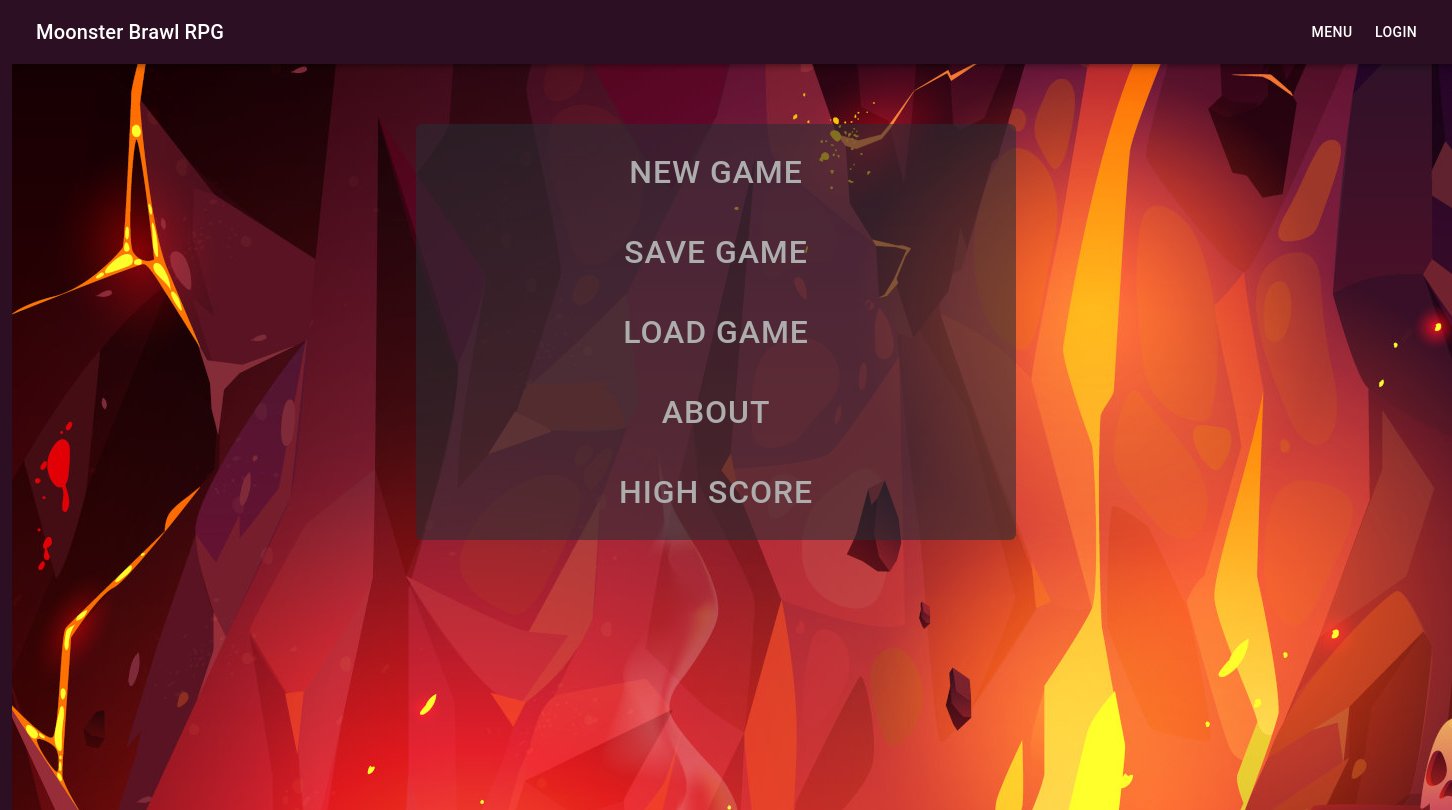
App › keeps disabled shop buttons filled and visibly grey
The image size is (1452, 810).
Click the button "New Game" at [716, 172], box x1=621 y1=138 x2=811 y2=206
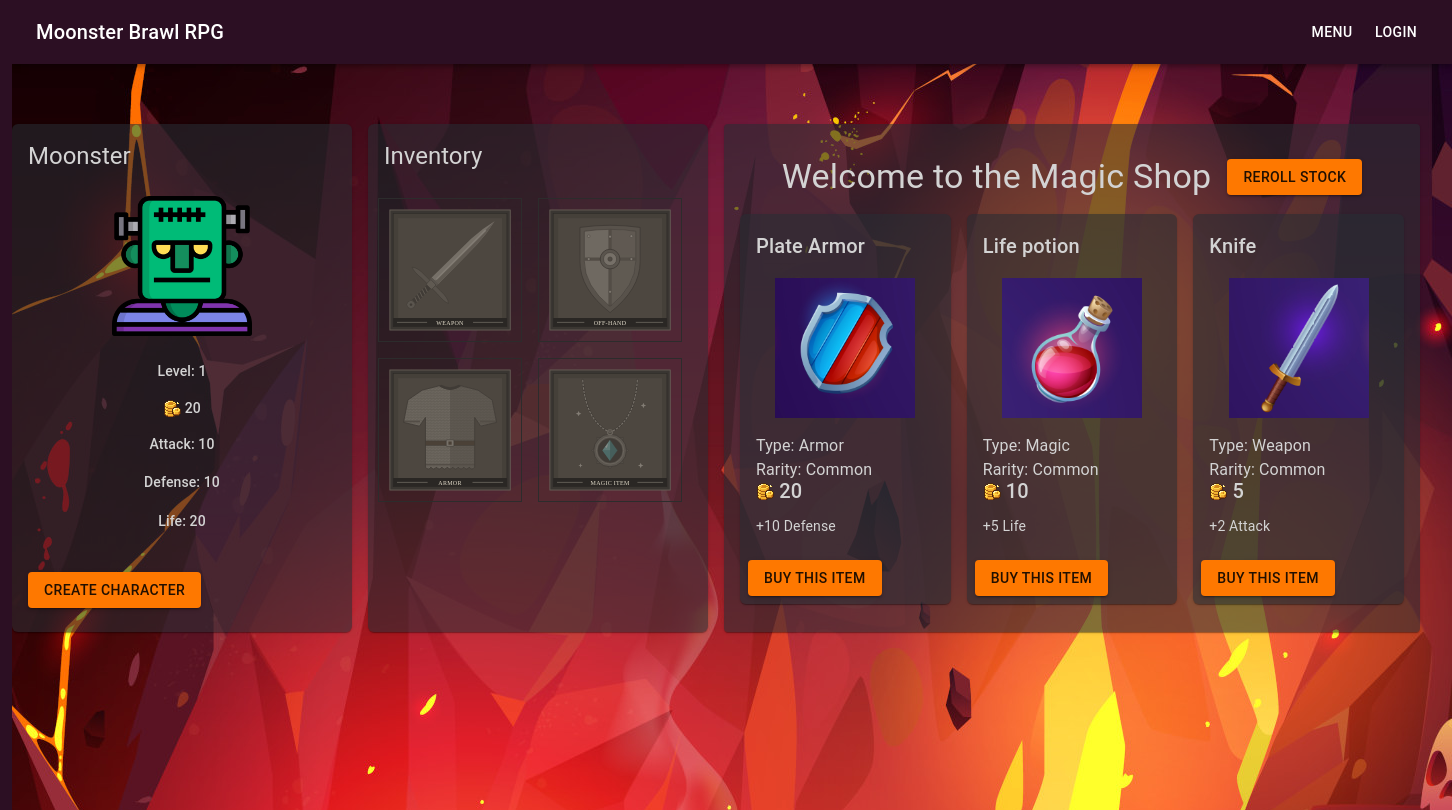
expect the heading "Welcome to the Magic Shop" is shown: met, box x1=782 y1=156 x2=1212 y2=198
Click the button "Reroll stock" at [1295, 177], box x1=1227 y1=159 x2=1362 y2=195
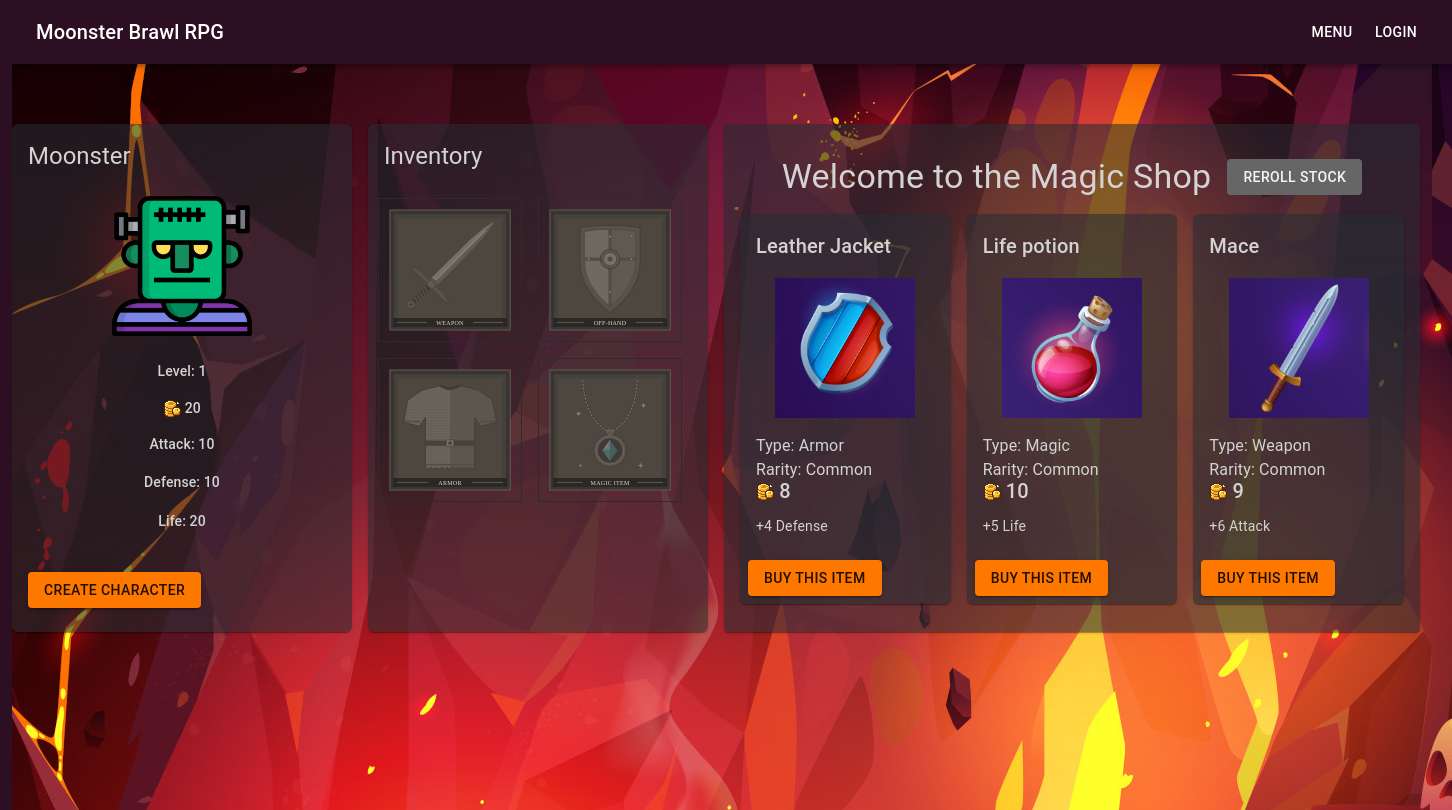
expect the button "Reroll stock" is disabled: met, box x1=1227 y1=159 x2=1362 y2=195
